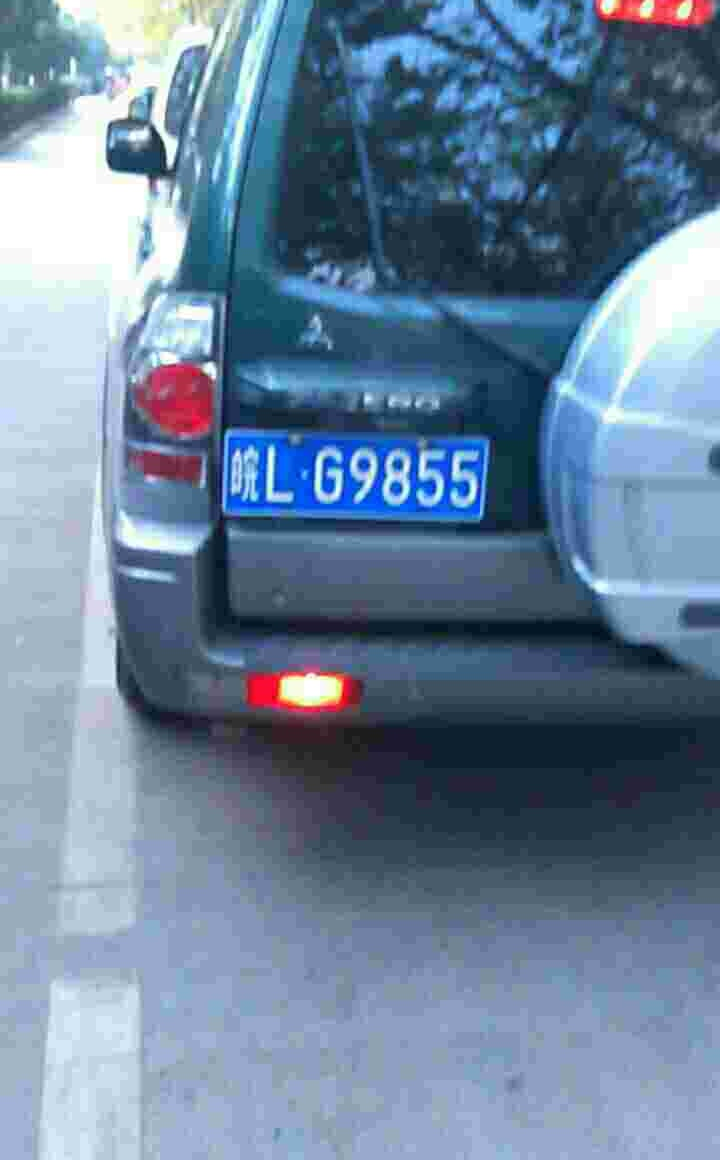license_plate: (226, 434, 485, 529)
